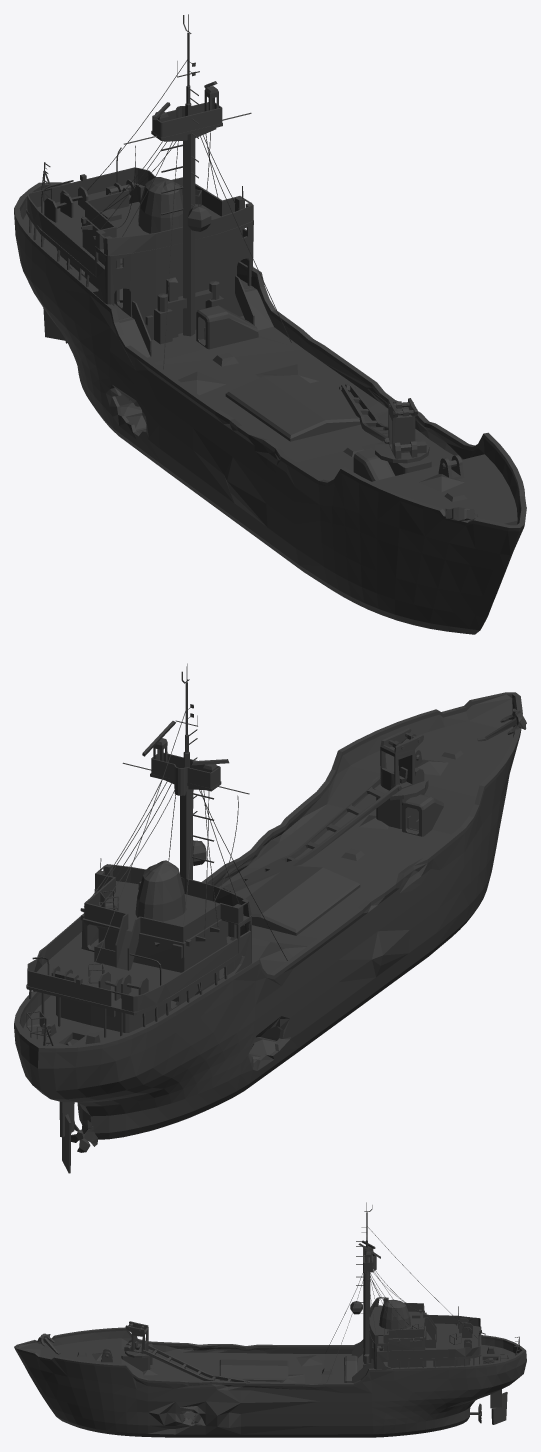
Rendered from mesh_1960_Shipwreck_13_collider.glb.
The picture shows the model from 3 angles, top to bottom: view 1: azimuth 30°, elevation 25°; view 2: azimuth 150°, elevation 25°; view 3: azimuth 270°, elevation 25°; orthographic projection. The views are drawn at different scales.
Parts seen in each view (by area): view 1: Shipwreck_13_collider; view 2: Shipwreck_13_collider; view 3: Shipwreck_13_collider.
Boxes of the visible parts, <box> form: Shipwreck_13_collider: <box>14,14,526,634</box>; Shipwreck_13_collider: <box>14,663,526,1173</box>; Shipwreck_13_collider: <box>14,1202,526,1437</box>.
Size of the model in its own units: 13.92 by 34.18 by 71.88.
Materials: 1 (1 with a texture image).
